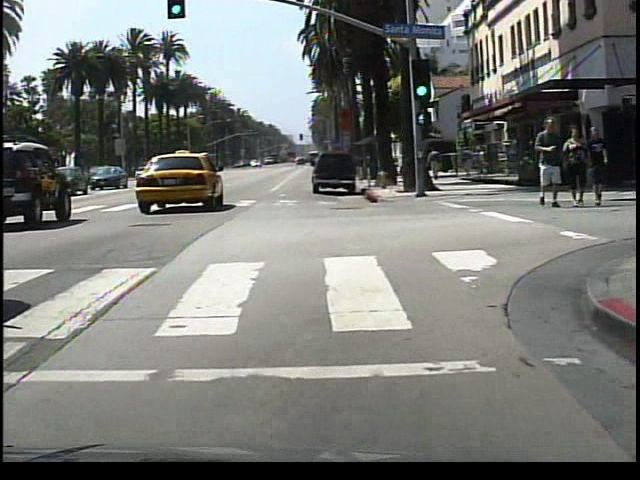person: (531, 114, 564, 213), (561, 126, 592, 213), (584, 125, 611, 209), (423, 144, 445, 185)
